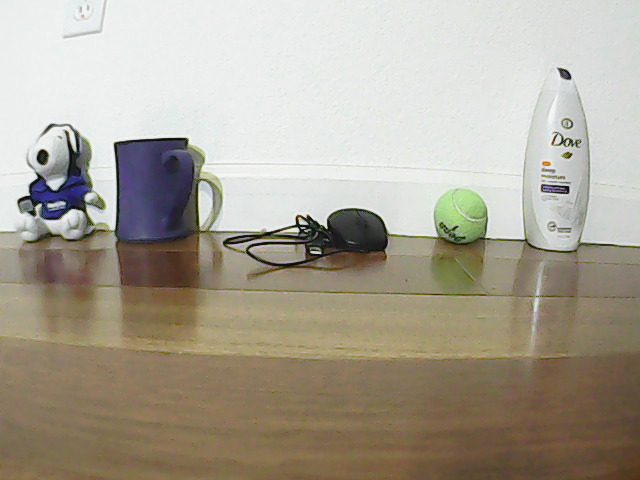ball: (433, 187, 490, 246)
mouse: (304, 198, 392, 258)
mug: (109, 131, 197, 251)
snoopy: (18, 125, 105, 246)
soap: (529, 57, 596, 260)
